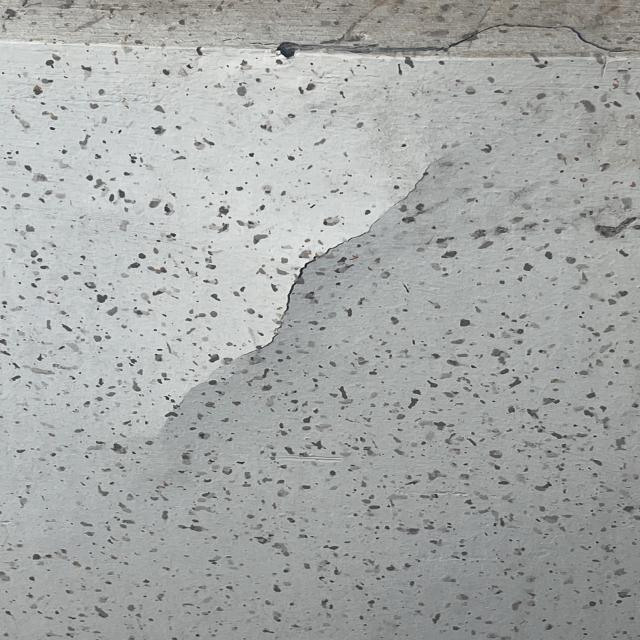crack: (101, 155, 516, 472)
